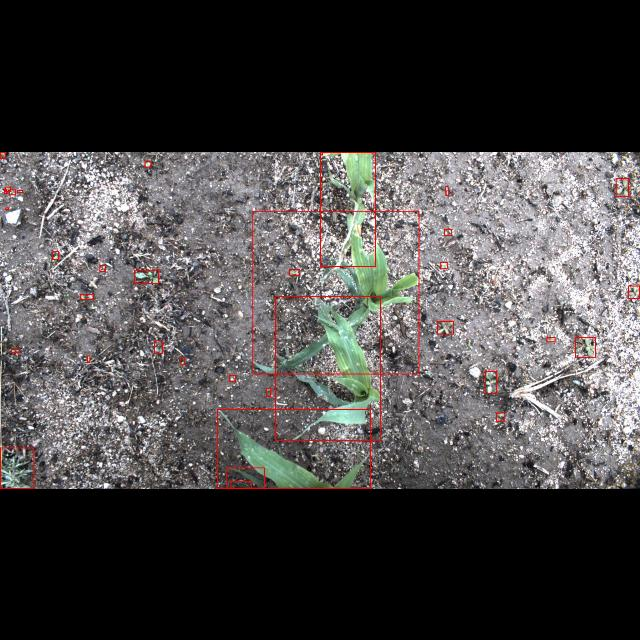crop: (253, 210, 419, 374), (276, 296, 380, 440), (218, 408, 370, 488), (320, 152, 376, 266), (227, 468, 265, 488), (230, 480, 252, 488)
weed: (0, 448, 34, 488), (575, 337, 595, 357), (134, 269, 158, 283), (486, 371, 496, 394), (616, 178, 628, 196), (438, 321, 454, 334), (628, 284, 640, 298), (154, 341, 162, 354), (496, 413, 504, 421), (80, 294, 94, 298), (444, 228, 452, 234), (52, 251, 58, 259), (290, 270, 300, 274), (441, 262, 447, 268), (0, 151, 6, 157), (229, 375, 235, 381), (145, 160, 151, 166), (9, 188, 15, 194), (266, 388, 270, 396), (11, 348, 19, 352), (547, 337, 555, 341), (181, 358, 185, 364), (100, 265, 104, 271), (446, 186, 448, 194), (18, 188, 22, 192), (6, 186, 10, 190), (88, 356, 90, 362), (4, 188, 6, 192), (5, 208, 9, 208)
